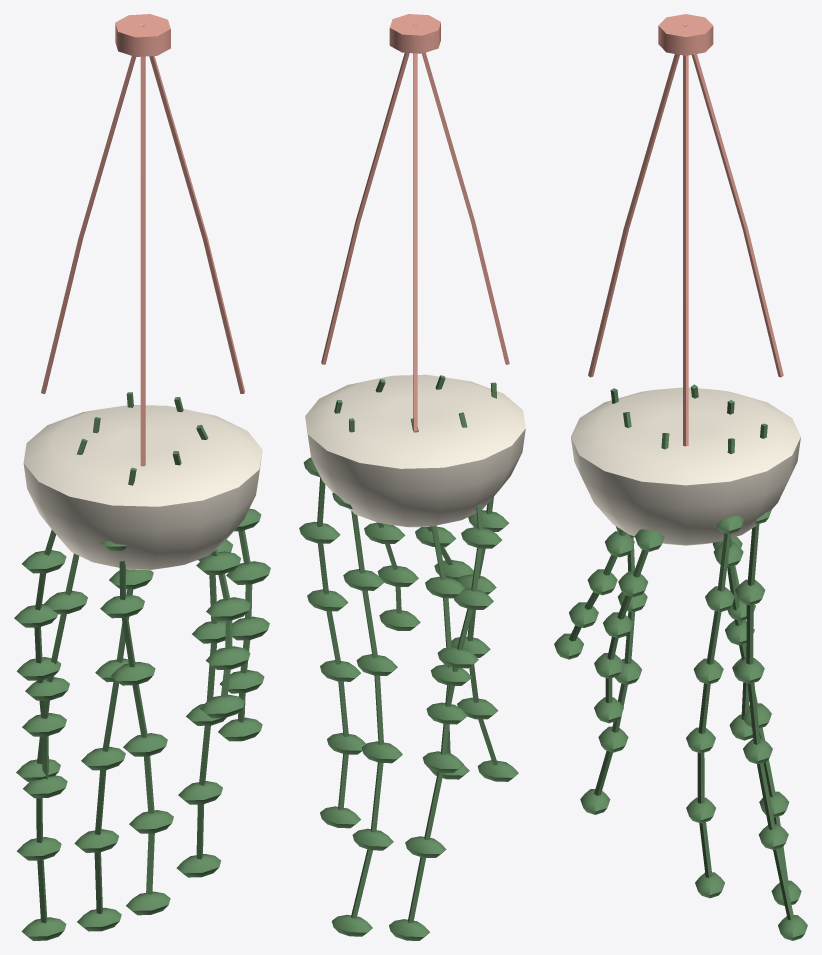
The model's file is hanging_planter.glb.
3 renders of one model, left to right at view 1: azimuth 30°, elevation 25°; view 2: azimuth 150°, elevation 25°; view 3: azimuth 270°, elevation 25°, orthographic. The views are drawn at different scales.
Parts seen in each view (by area): view 1: hanging_planter; view 2: hanging_planter; view 3: hanging_planter.
Boxes of the visible parts, x1,y1,x2,y2 form: hanging_planter: [14, 14, 270, 940]; hanging_planter: [299, 14, 525, 940]; hanging_planter: [554, 14, 807, 940].
Bounding box in the file's own units: 0.341 × 1.45 × 0.3694.
